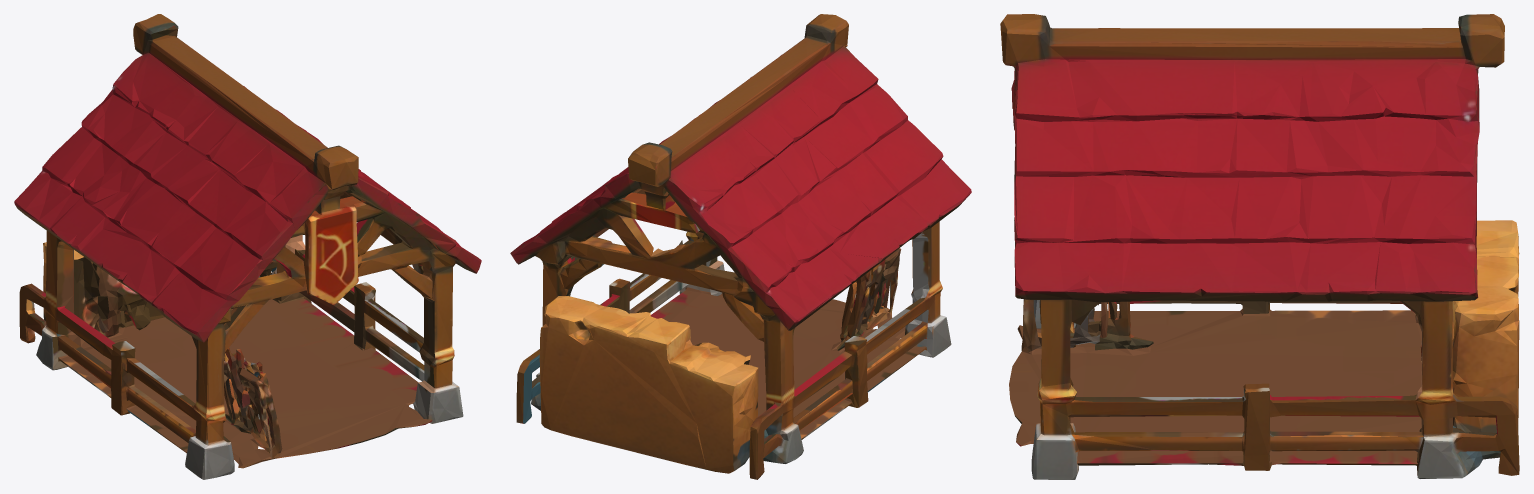
Rendered from kingdom_archery_range_1117.glb.
The picture shows the model from 3 angles, left to right: view 1: azimuth 30°, elevation 25°; view 2: azimuth 150°, elevation 25°; view 3: azimuth 270°, elevation 25°; orthographic projection. The views are drawn at different scales.
Parts seen in each view (by area): view 1: tmpm7fe2c_6.ply; view 2: tmpm7fe2c_6.ply; view 3: tmpm7fe2c_6.ply.
Part boxes in pixels (x1,y1,x2,y2): tmpm7fe2c_6.ply: (14, 14, 481, 479); tmpm7fe2c_6.ply: (510, 14, 971, 479); tmpm7fe2c_6.ply: (1000, 14, 1519, 479).
Bounding box in the file's own units: 1.65 × 1.61 × 1.99.
Materials: 1 (1 with a texture image).
